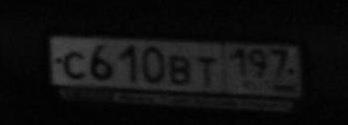license-plateSW: (48, 37, 304, 94)
